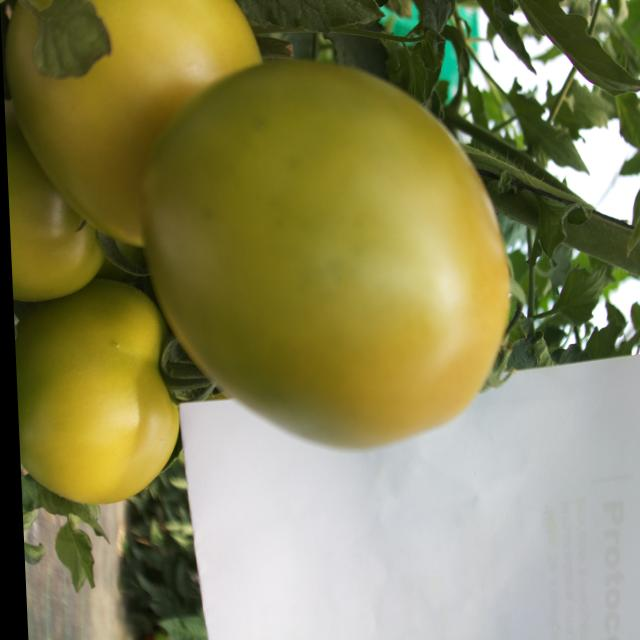yesil: (123, 55, 561, 444)
